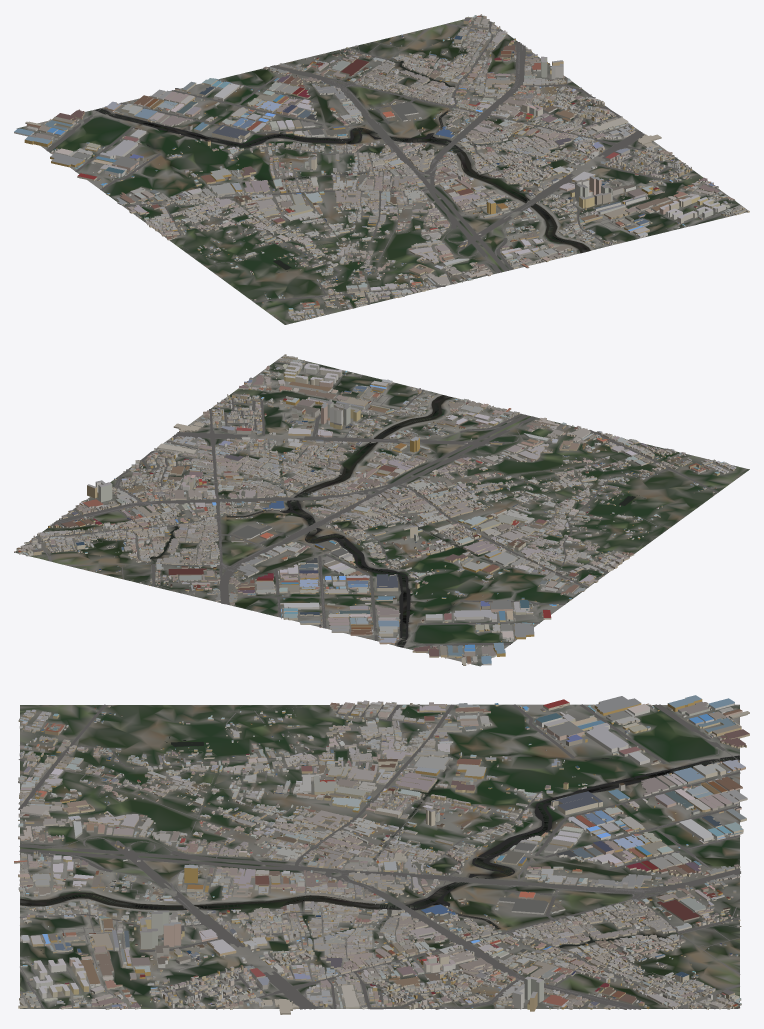
3 views of the same model, one above another, from view 1: azimuth 30°, elevation 25°; view 2: azimuth 150°, elevation 25°; view 3: azimuth 270°, elevation 25° (orthographic). The views are drawn at different scales.
Parts seen in each view (by area): view 1: buildings, ground, roads, water; view 2: buildings, ground, roads, water; view 3: ground, buildings, roads, water.
Boxes of the visible parts, left/top/right/bottom form: buildings: left=14, top=14, right=749, bottom=320; ground: left=16, top=15, right=746, bottom=324; roads: left=46, top=16, right=742, bottom=320; water: left=94, top=61, right=664, bottom=272; buildings: left=14, top=354, right=736, bottom=665; ground: left=15, top=356, right=749, bottom=666; roads: left=18, top=359, right=738, bottom=647; water: left=150, top=395, right=645, bottom=647; ground: left=20, top=704, right=739, bottom=1008; buildings: left=14, top=695, right=749, bottom=1014; roads: left=18, top=704, right=740, bottom=1009; water: left=20, top=736, right=739, bottom=953.
Bounding box in the file's own units: 2912 × 96.88 × 2863.
